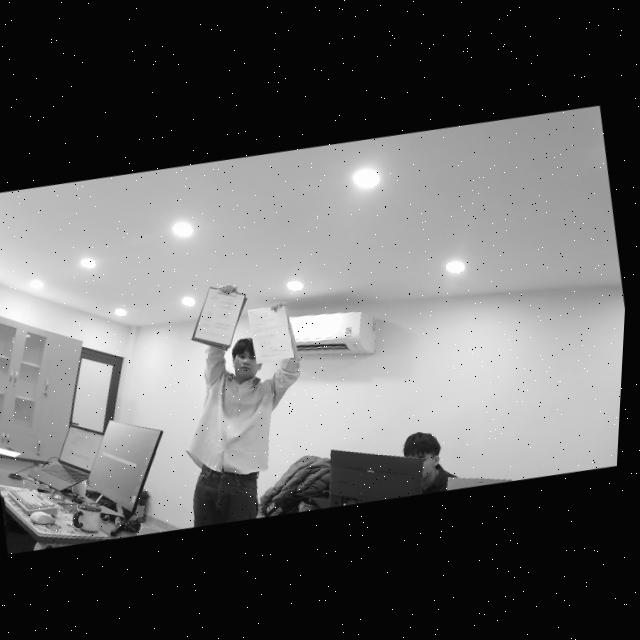document: (194, 288, 244, 345), (247, 304, 294, 364)
face: (228, 346, 260, 382)
